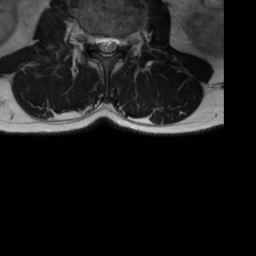CCS_normal: (103, 28, 110, 62)
LFS_normal: (119, 29, 127, 53)
LLS_normal: (110, 28, 119, 55)
RFS_normal: (87, 27, 95, 52)
RLS_normal: (95, 29, 103, 55)
